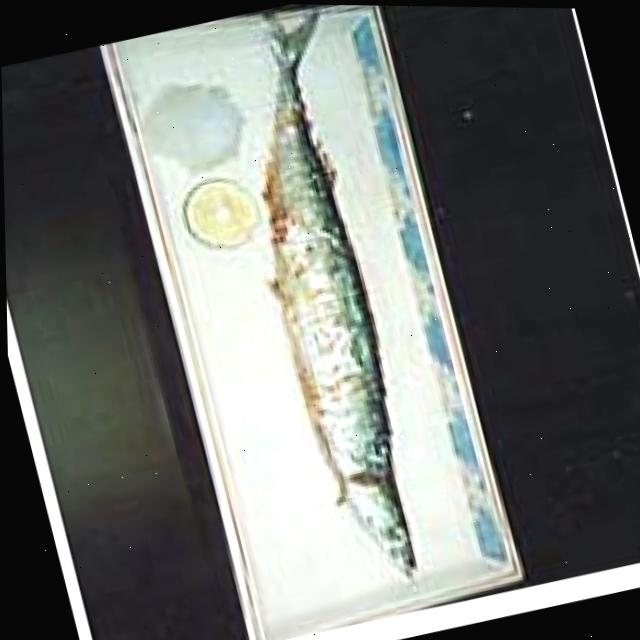熟制海鲜: (202, 2, 466, 607)
